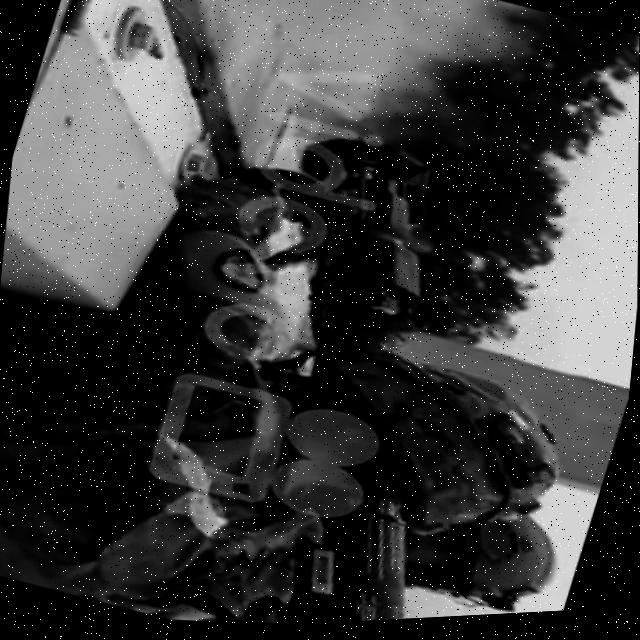rocket: (192, 115, 554, 632)
